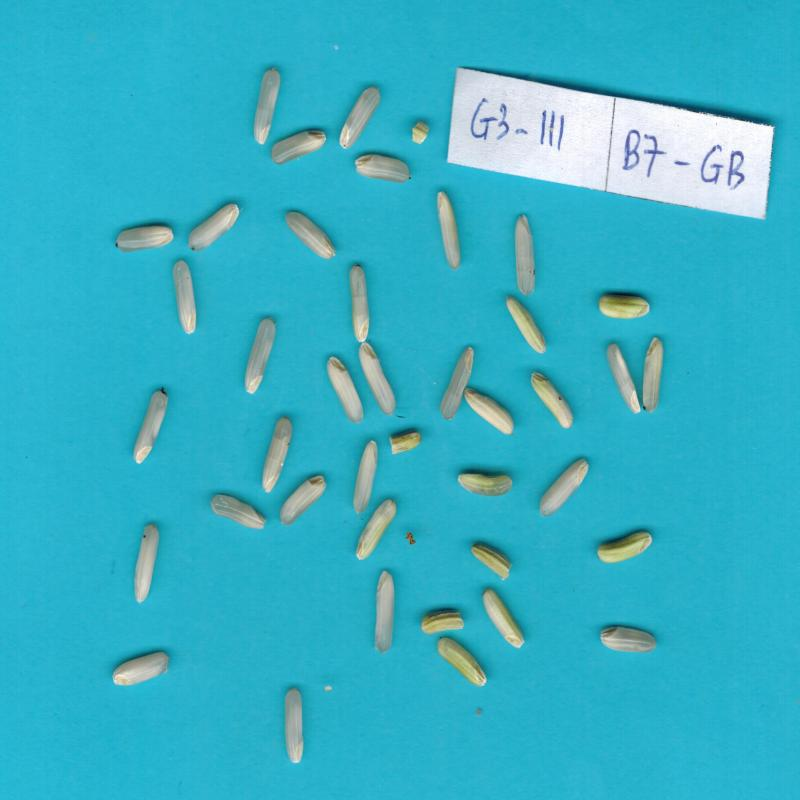Break: (471, 543, 512, 579), (421, 610, 464, 634), (390, 430, 420, 455), (412, 121, 429, 144)
Inferior: (437, 638, 487, 687), (483, 589, 524, 648), (531, 372, 573, 428), (464, 388, 514, 435), (506, 297, 546, 353), (597, 531, 652, 563), (458, 473, 512, 496), (599, 295, 650, 319)
Rice: (540, 458, 589, 516), (359, 342, 396, 415), (133, 391, 167, 465), (340, 87, 380, 149), (188, 204, 239, 252), (327, 356, 363, 424), (440, 347, 474, 419), (279, 475, 327, 525), (356, 500, 396, 560), (607, 344, 641, 414), (245, 318, 276, 394), (286, 212, 335, 259), (262, 417, 292, 493), (254, 67, 280, 145), (134, 524, 159, 603), (112, 652, 169, 686), (271, 130, 326, 165), (210, 495, 266, 529), (437, 191, 460, 269), (353, 441, 377, 514), (173, 260, 196, 334), (355, 154, 411, 183), (515, 216, 535, 296), (375, 571, 394, 654), (642, 337, 663, 412), (116, 226, 174, 253), (284, 688, 304, 764), (350, 264, 369, 342), (601, 626, 656, 652)
